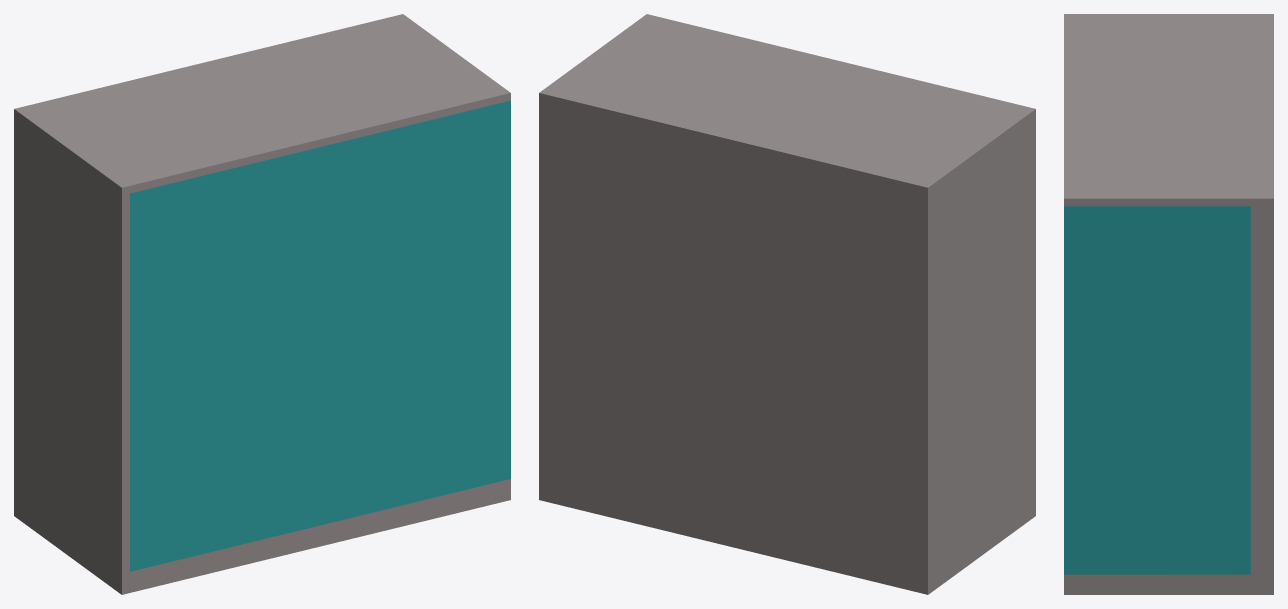
Rendered from pcWhite.fbx.
3 renders of one model, left to right at view 1: azimuth 30°, elevation 25°; view 2: azimuth 150°, elevation 25°; view 3: azimuth 270°, elevation 25°, orthographic. The views are drawn at different scales.
Visible parts, largest first — view 1: GlassSide.001, PC; view 2: PC; view 3: GlassFront.001, PC.
Part boxes in pixels (x1=…): GlassSide.001: x1=130, y1=100, x2=510, y2=571; PC: x1=14, y1=14, x2=510, y2=594; PC: x1=539, y1=14, x2=1035, y2=594; GlassFront.001: x1=1064, y1=206, x2=1250, y2=574; PC: x1=1064, y1=14, x2=1273, y2=594.
Size of the model in its own units: 2 by 0.96 by 2.
